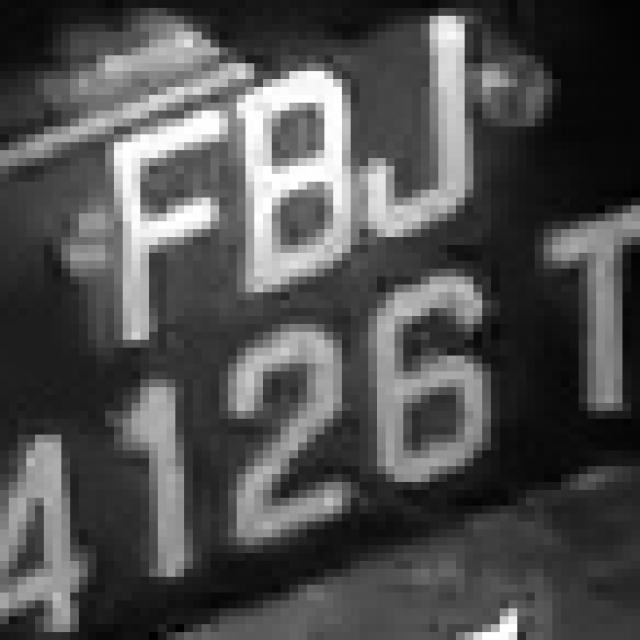1: (114, 356, 202, 616)
2: (210, 308, 377, 553)
4: (9, 403, 114, 616)
6: (360, 268, 518, 498)
B: (228, 64, 377, 292)
F: (88, 87, 254, 332)
J: (350, 31, 500, 252)
T: (517, 190, 631, 418)
